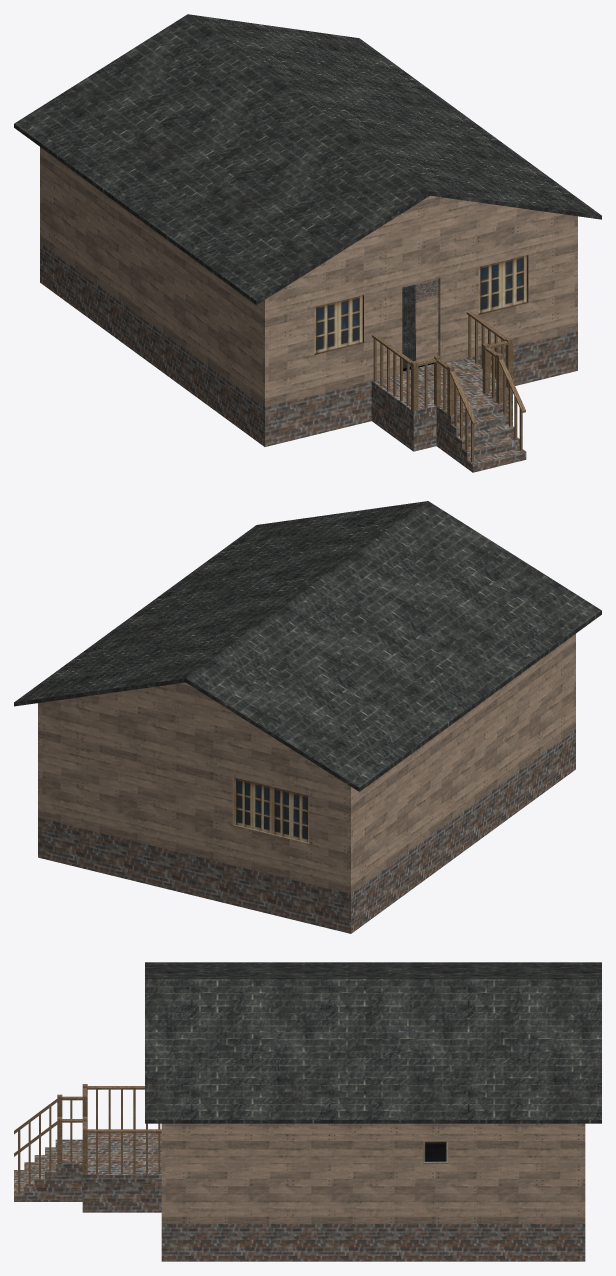
File: house1_tex3.glb
The picture shows the model from 3 angles, top to bottom: view 1: azimuth 30°, elevation 25°; view 2: azimuth 150°, elevation 25°; view 3: azimuth 270°, elevation 25°; orthographic projection. The views are drawn at different scales.
Parts seen in each view (by area): view 1: house1, house1_windows_house1.002, house1_door1; view 2: house1, house1_windows_house1.002; view 3: house1, house1_windows_house1.002.
Part boxes in pixels (bbox=[...]): house1: bbox=[14, 14, 601, 472]; house1_windows_house1.002: bbox=[314, 255, 528, 354]; house1_door1: bbox=[402, 279, 438, 371]; house1: bbox=[14, 501, 601, 933]; house1_windows_house1.002: bbox=[232, 777, 308, 843]; house1: bbox=[14, 962, 601, 1261]; house1_windows_house1.002: bbox=[423, 1141, 448, 1163].
Bounding box in the file's own units: 9.05 × 5.6 × 14.15.
Materials: 1 (1 with a texture image).
